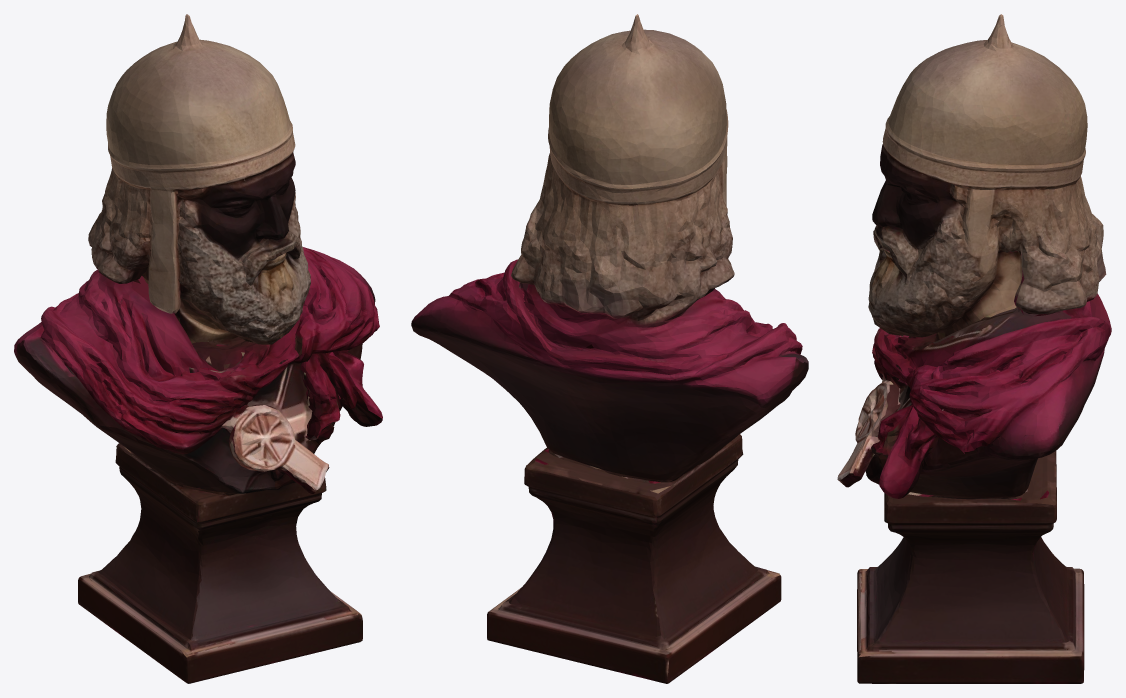
File: HUNYUAN.glb
3 views of the same model, side by side, from view 1: azimuth 30°, elevation 25°; view 2: azimuth 150°, elevation 25°; view 3: azimuth 270°, elevation 25° (orthographic). The views are drawn at different scales.
Visible parts, largest first — view 1: CyberWarrior_8.obj; view 2: CyberWarrior_8.obj; view 3: CyberWarrior_8.obj.
Part boxes in pixels (<box>): CyberWarrior_8.obj: <box>14,14,382,683</box>; CyberWarrior_8.obj: <box>411,14,808,683</box>; CyberWarrior_8.obj: <box>837,14,1111,683</box>.
Size of the model in its own units: 1.24 by 1.99 by 0.802.
1 material, 1 textured.
